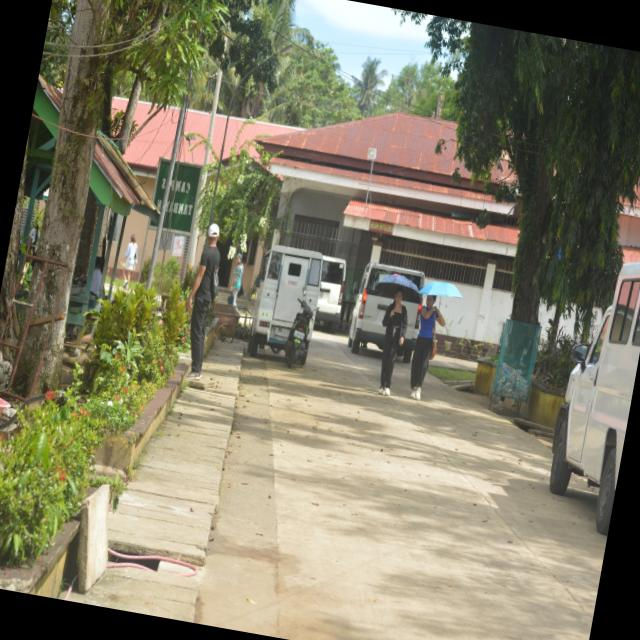person: (186, 224, 219, 379), (410, 295, 443, 400), (378, 289, 406, 395), (122, 235, 136, 287), (229, 254, 242, 306)
